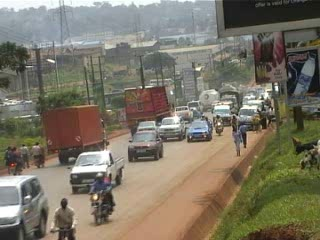Car: (0, 172, 50, 239), (124, 128, 167, 165), (185, 116, 214, 143), (155, 116, 187, 140), (132, 120, 161, 136)
Motorcycle: (79, 172, 120, 226), (4, 143, 27, 176), (28, 139, 47, 168), (211, 113, 228, 136), (200, 110, 212, 128)
